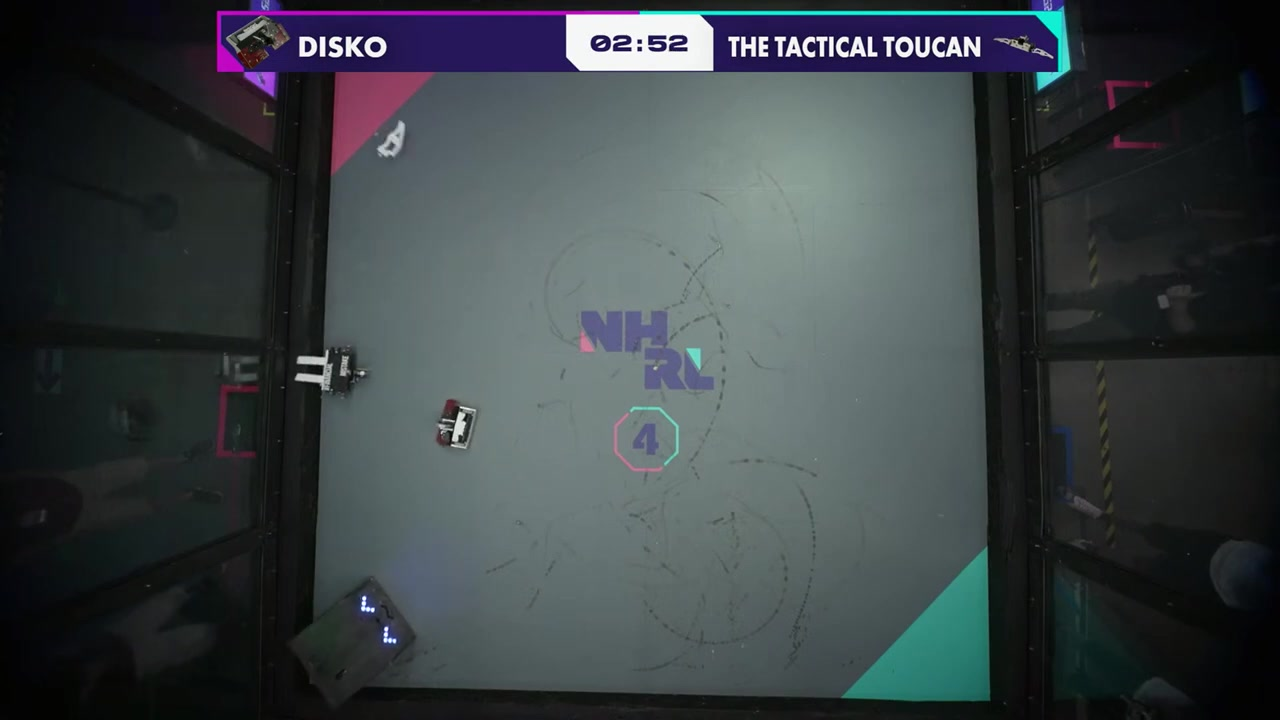combatbot: (295, 345, 369, 397), (436, 398, 478, 452)
debris: (376, 123, 413, 162)
housebot: (288, 578, 419, 707)
